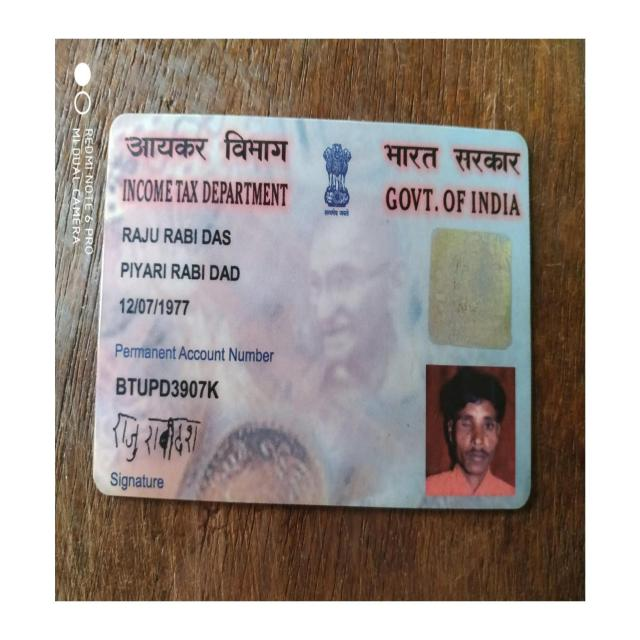pan_card: (94, 117, 529, 506)
